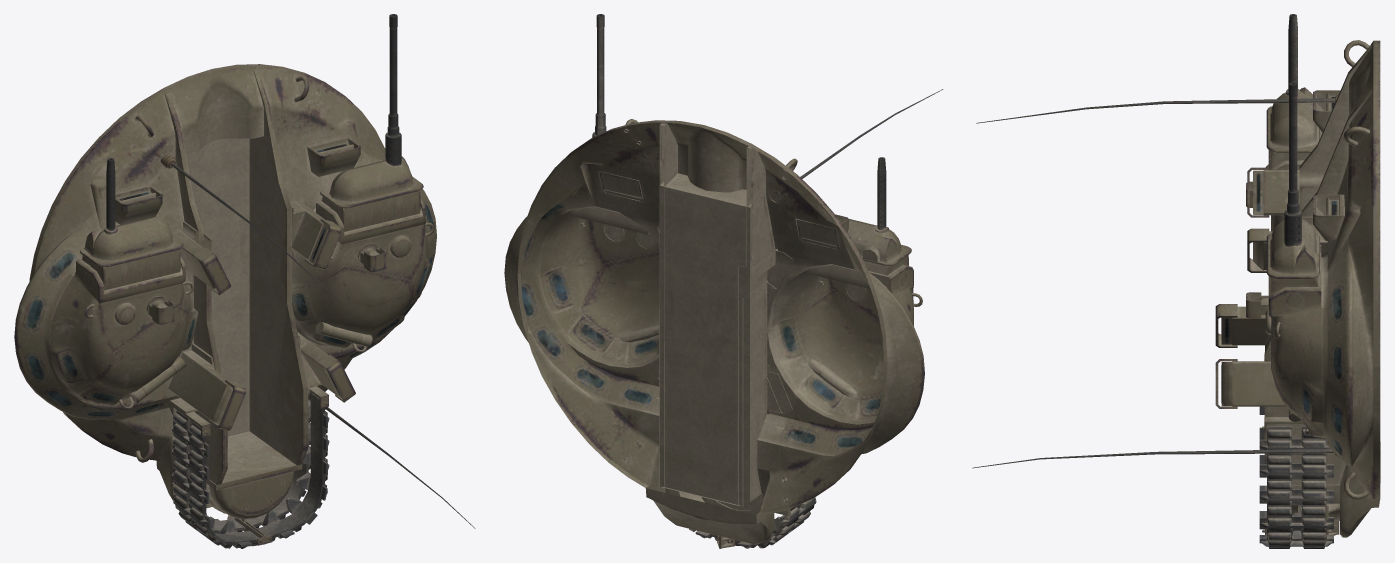
File: Turret_01.glb
3 renders of one model, left to right at view 1: azimuth 30°, elevation 25°; view 2: azimuth 150°, elevation 25°; view 3: azimuth 270°, elevation 25°, orthographic. The views are drawn at different scales.
Visible parts, largest first — view 1: set_0_group_0; view 2: set_0_group_0; view 3: set_0_group_0.
Part boxes in pixels (x1=…): set_0_group_0: x1=14, y1=14, x2=475, y2=548; set_0_group_0: x1=504, y1=14, x2=943, y2=548; set_0_group_0: x1=972, y1=14, x2=1380, y2=548.
Size of the model in its own units: 2.85 by 3.14 by 2.21.
1 material, 1 textured.
